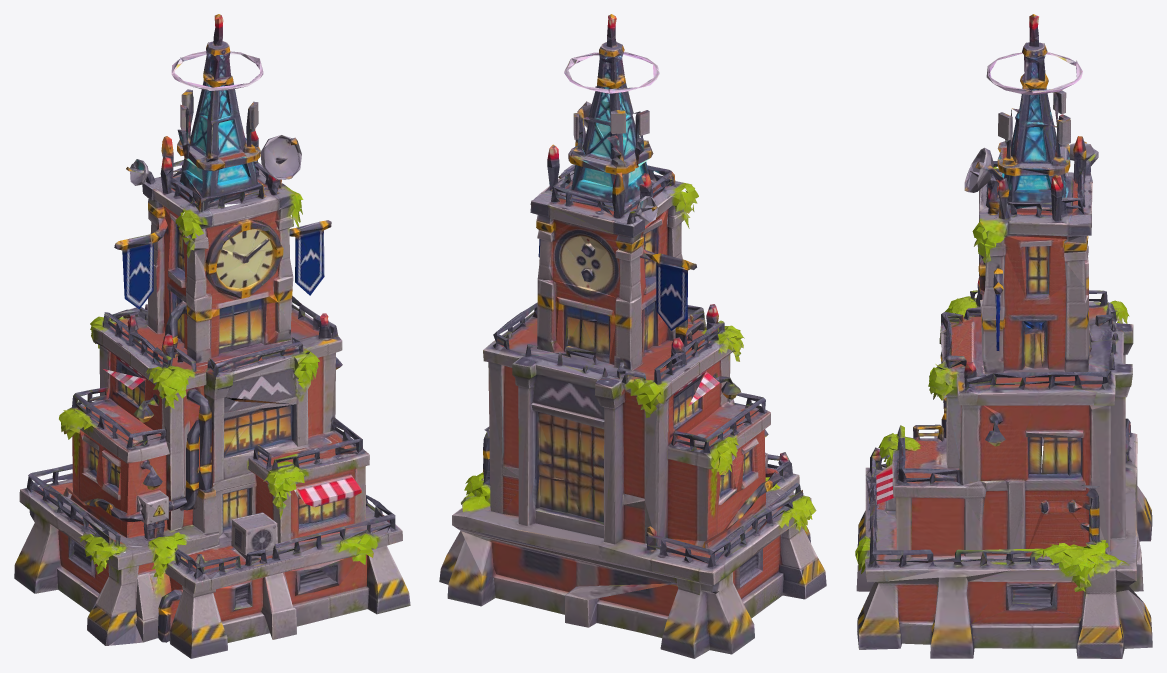
File: clock_energy_tower.glb
3 renders of one model, left to right at view 1: azimuth 30°, elevation 25°; view 2: azimuth 150°, elevation 25°; view 3: azimuth 270°, elevation 25°, orthographic. The views are drawn at different scales.
Visible parts, largest first — view 1: output_unwrapped; view 2: output_unwrapped; view 3: output_unwrapped.
Part boxes in pixels (x1,y1,x2,y2): output_unwrapped: [14, 14, 410, 658]; output_unwrapped: [439, 14, 826, 658]; output_unwrapped: [855, 14, 1152, 658].
Size of what is drawn, in the model's own units: 0.5446 by 1 by 0.4642.
Materials: 1 (1 with a texture image).
